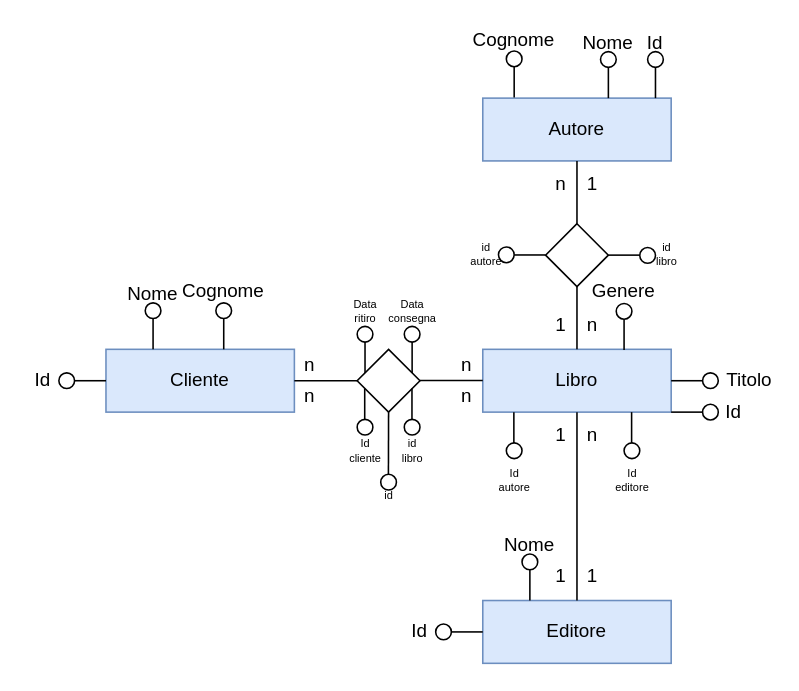
This 799x691 diagram has some shape labels left out. Here are the shapes that lost their labels. From the top down, the centre of each, then its label:
At [576,254]: "Scrive".
At [388,380]: "Prestito".
